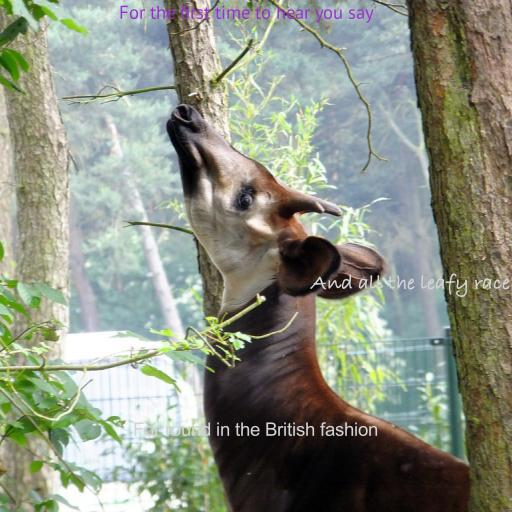Arial: (132, 422, 378, 437)
Bradley Hand: (310, 273, 510, 297)
PT Sans: (118, 5, 374, 23)
